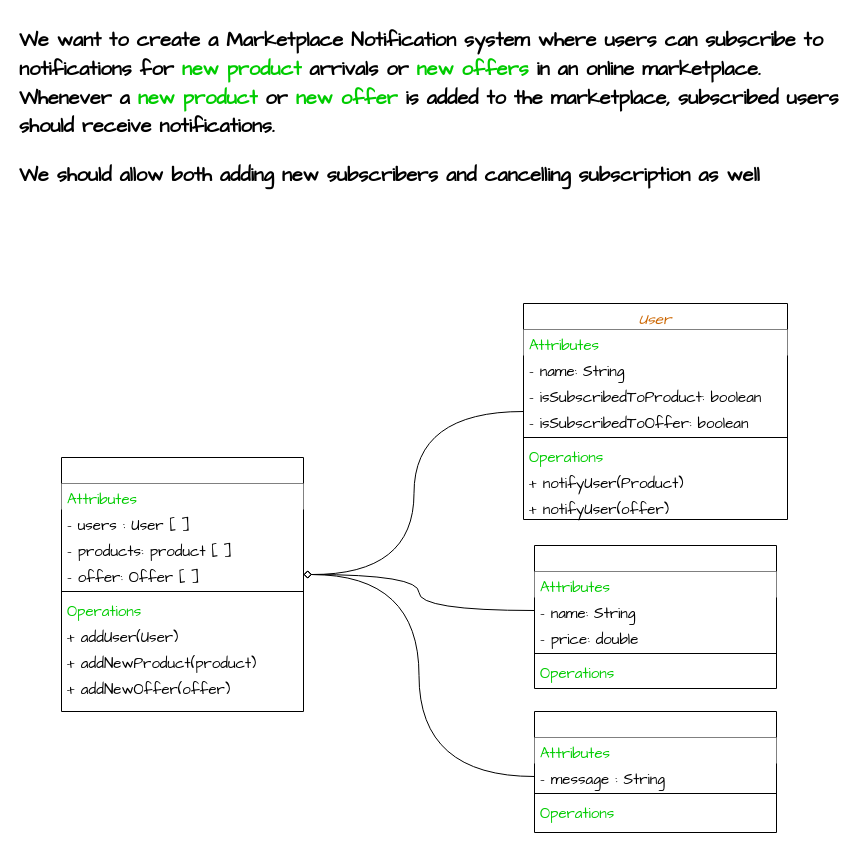
Some shapes in this 859 by 850 pixel diagram are drawn without their labels. The box of each missing label's shape, as (x1, y1, x2, y2) in pixels:
Offer: (534, 710, 776, 832)
OnlineMarketPlace: (60, 456, 304, 712)
Product: (534, 544, 776, 688)
